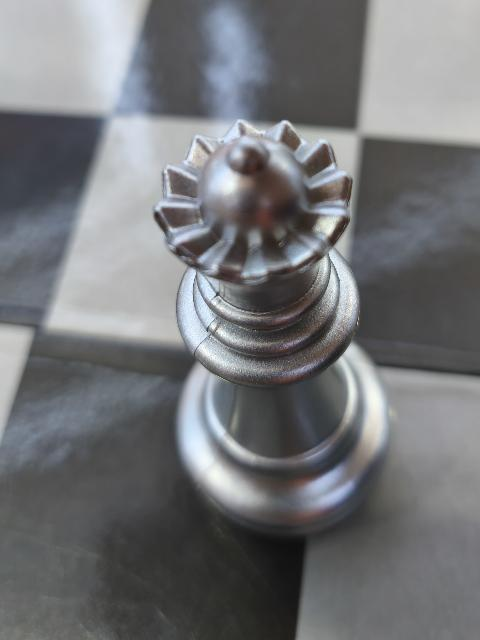white_queen: (149, 109, 393, 534)
